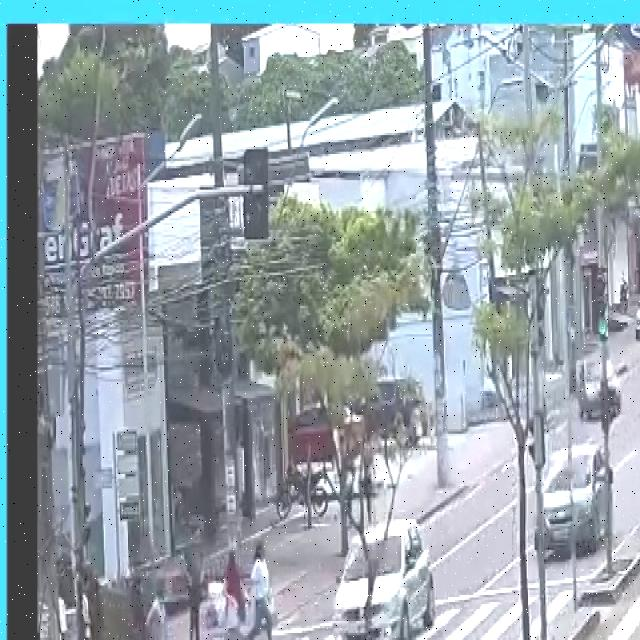car: (326, 519, 434, 640), (534, 442, 616, 562), (637, 287, 640, 339)
people: (176, 521, 207, 640), (214, 540, 247, 640), (247, 533, 277, 640), (137, 578, 187, 640)
